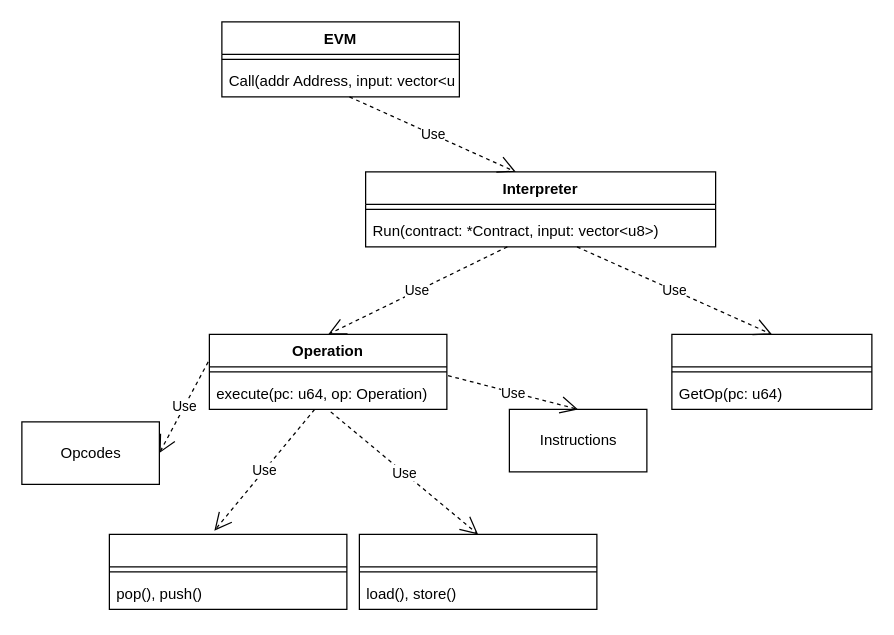
Some shapes in this 894 by 635 pixel diagram are drawn without their labels. The box of each missing label's shape, as (x1, y1, x2, y2) in pixels:
Contract: (671, 333, 872, 409)
Memory: (358, 533, 597, 609)
Stack: (108, 533, 347, 609)
